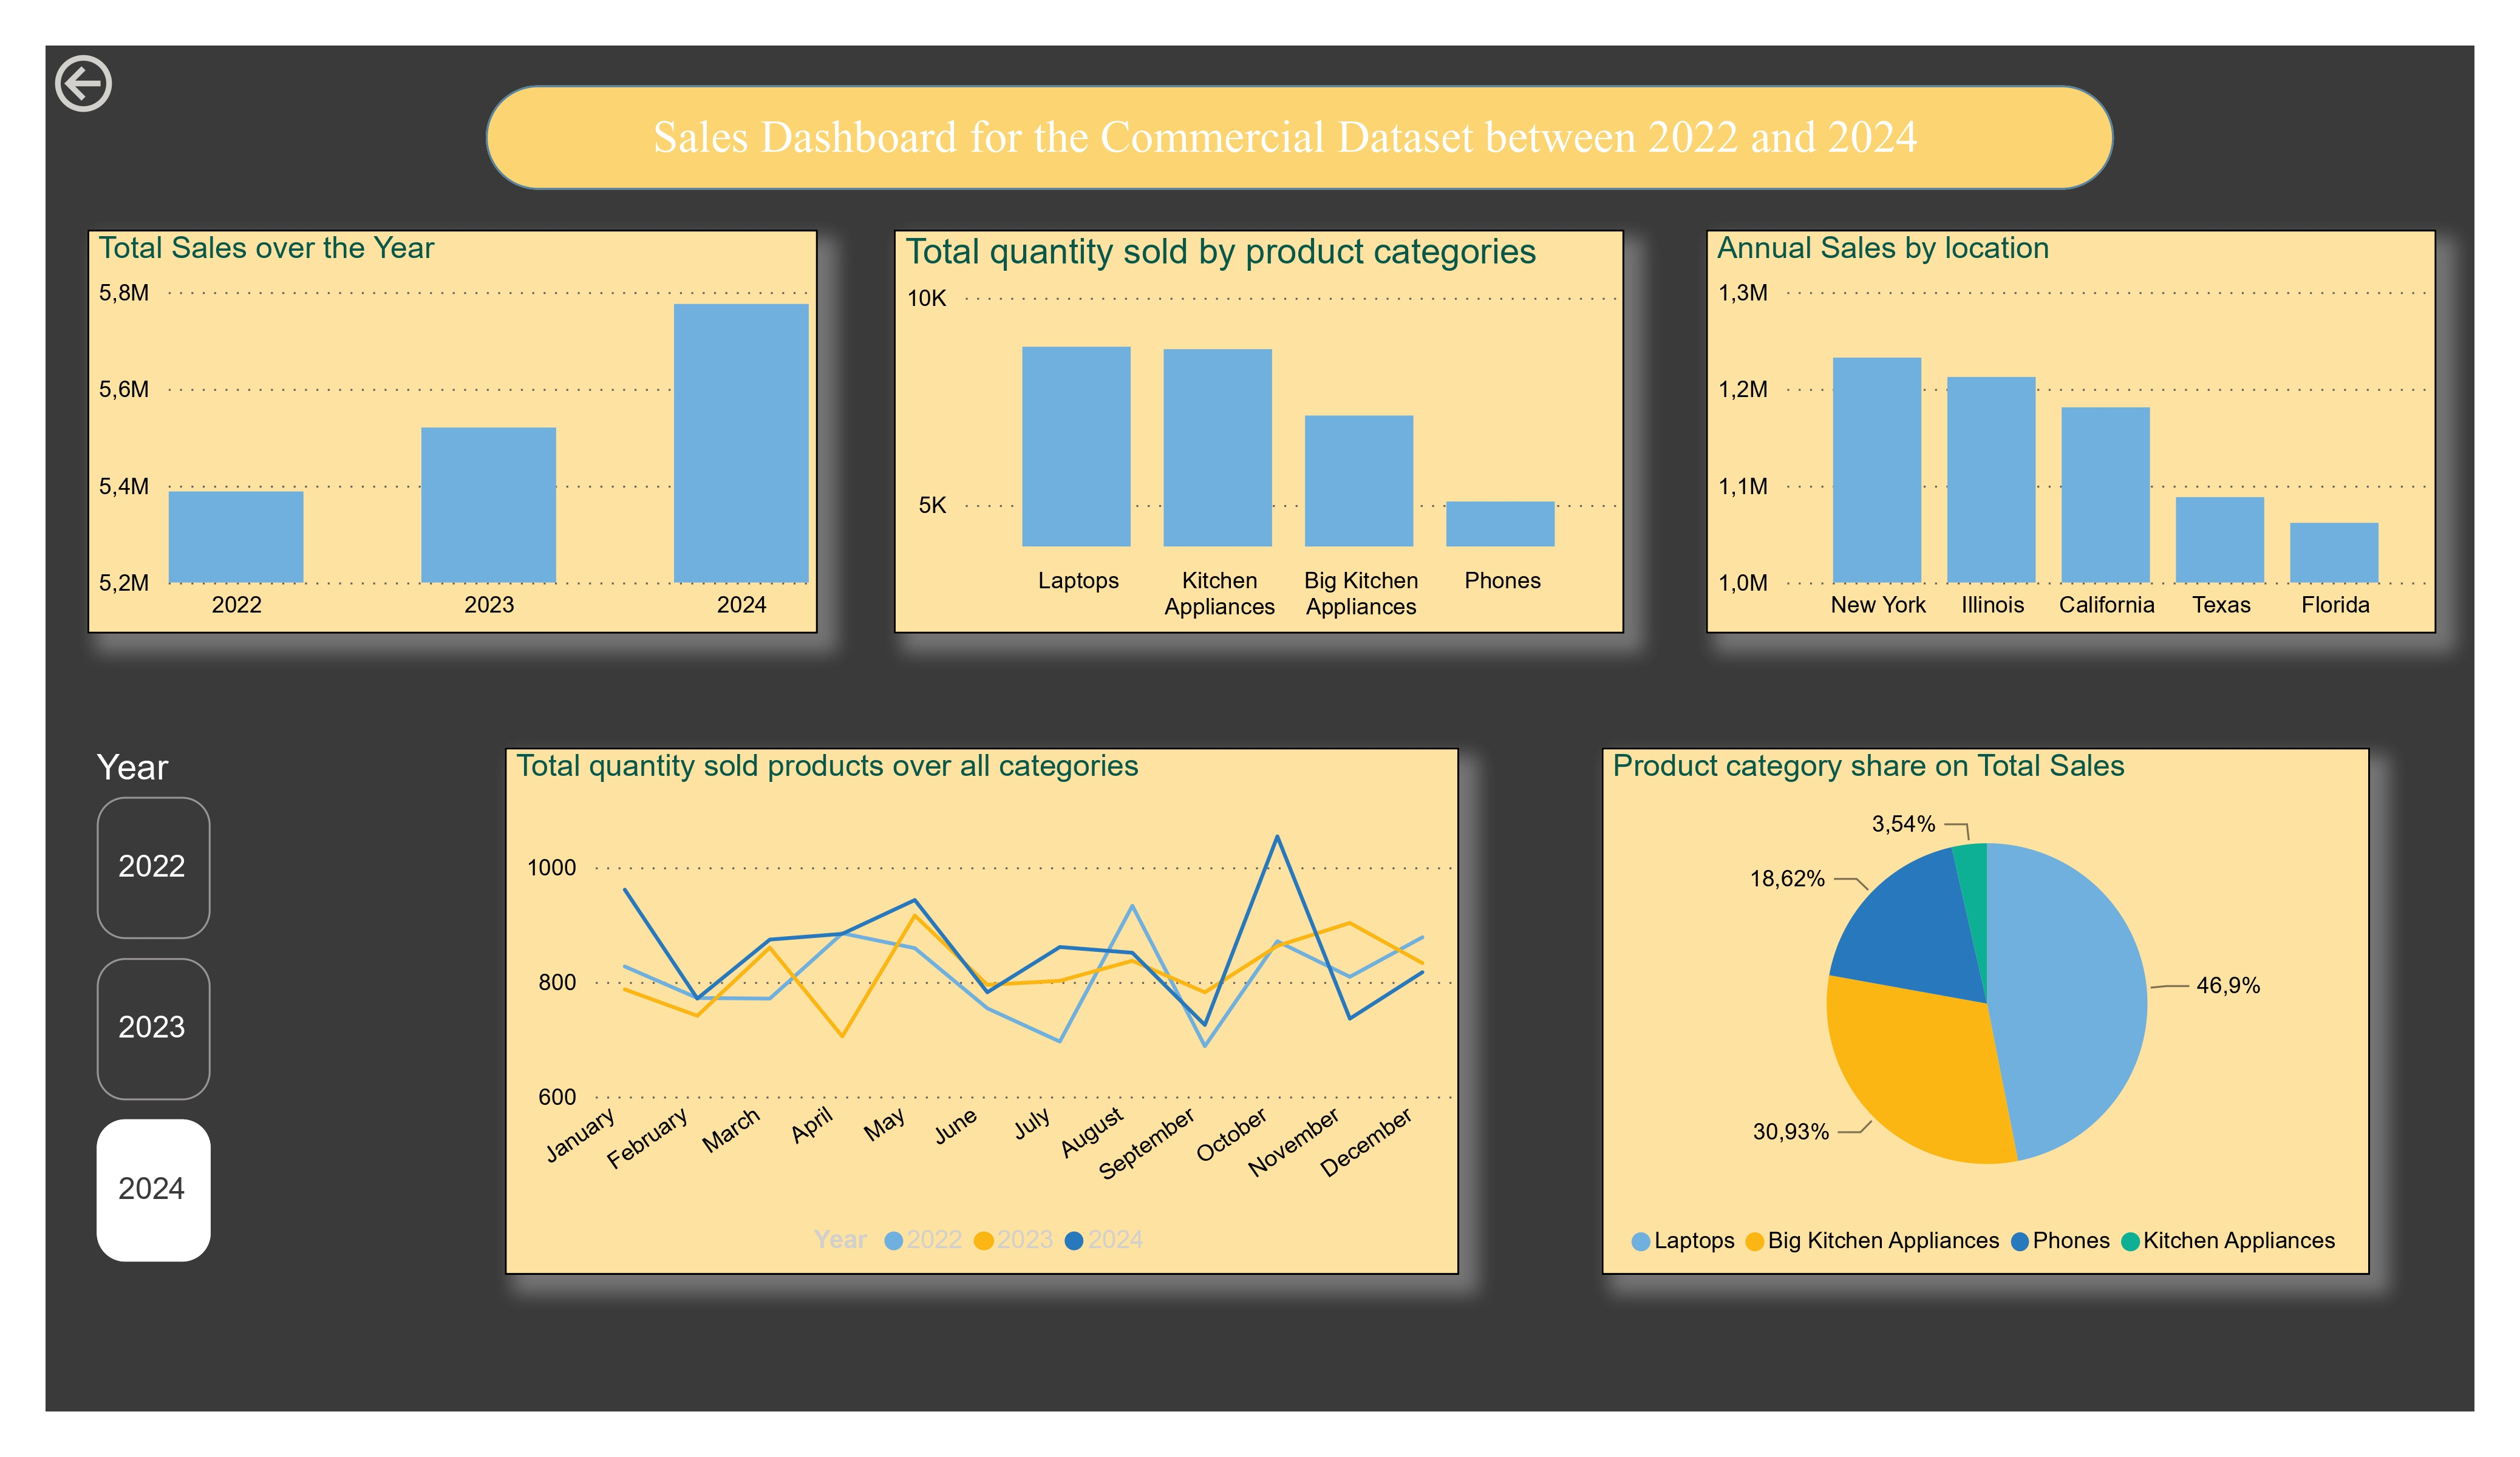

What the dashboard file says about the page in this screenshot:
{"tool":"powerbi","page":{"name":"Page 1","canvas":[1280,720],"ordinal":1},"visuals":[{"type":"actionButton","box":[0,0,100,40],"z":0},{"type":"lineChart","title":"Total quantity sold products over all categories ","fields":{"Y":["Sum(commerce_staging stg_order_items.quantity)"],"Category":["DateTable.Month"],"Series":["DateTable.Year"]},"box":[241.7,370,503.3,278.3],"z":1000},{"type":"columnChart","title":"Total Sales over the Year","fields":{"Category":["DateTable.Year"],"Y":["DateTable.Total Sales"]},"box":[21.7,96.7,385,213.3],"z":2000},{"type":"clusteredColumnChart","title":"Total quantity sold by product categories","fields":{"Y":["Sum(commerce_core fct_orders.quantity)"],"Category":["commerce_core fct_orders.product_categories"]},"box":[446.7,96.7,385,213.3],"z":3000},{"type":"pieChart","title":"Product category share on Total Sales","fields":{"Category":["commerce_staging stg_product_categories.product_categories"],"Y":["DateTable.Category Sales %"]},"box":[820,370,405,278.3],"z":4000},{"type":"advancedSlicerVisual","title":"Year","fields":{"Values":["DateTable.Year"]},"box":[21.7,370,210,278.3],"z":5000},{"type":"clusteredColumnChart","title":"Annual Sales by location","fields":{"Y":["DateTable.Annual Sales by Store"],"Category":["commerce_staging stg_stores.location"]},"box":[875,96.7,385,213.3],"z":6000},{"type":"textbox","box":[221.7,10,801.7,50],"z":7000}]}

Visuals, with their boxes on the page's 1280x720 design canvas (x1, y1, x2, y2). These are canvas units, not pixel positions in the 2520x1457 screenshot, which may show the page scaled, cropped or inside an application window:
actionButton: detection(0, 0, 100, 40)
"Total quantity sold products over all categories " lineChart: detection(242, 370, 745, 648)
"Total Sales over the Year" columnChart: detection(22, 97, 407, 310)
"Total quantity sold by product categories" clusteredColumnChart: detection(447, 97, 832, 310)
"Product category share on Total Sales" pieChart: detection(820, 370, 1225, 648)
"Year" advancedSlicerVisual: detection(22, 370, 232, 648)
"Annual Sales by location" clusteredColumnChart: detection(875, 97, 1260, 310)
textbox: detection(222, 10, 1023, 60)
